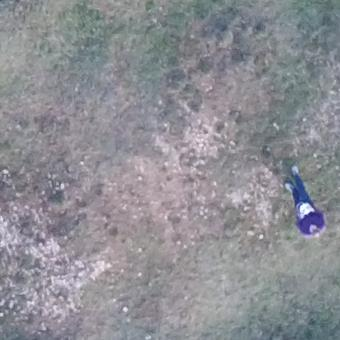human: (281, 160, 332, 238)
